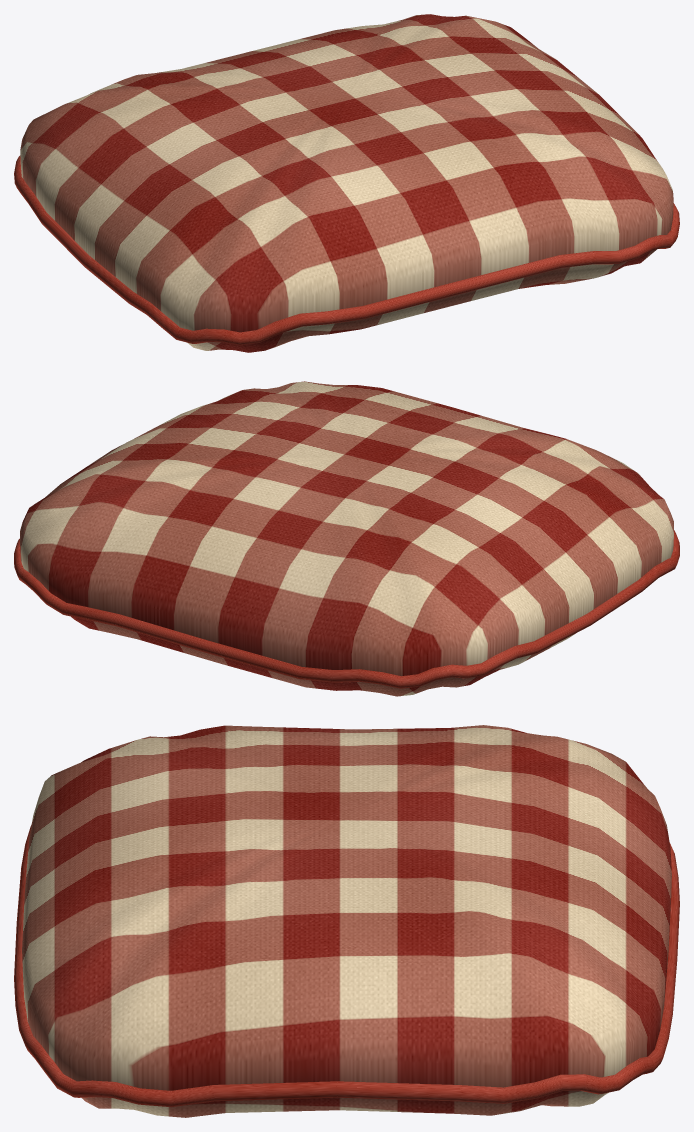
File: gingham-cushion.glb
3 renders of one model, top to bottom at view 1: azimuth 30°, elevation 25°; view 2: azimuth 150°, elevation 25°; view 3: azimuth 270°, elevation 25°, orthographic. The views are drawn at different scales.
Visible parts, largest first — view 1: Puffed gingham upholstery, Rust linen piping at the seam; view 2: Puffed gingham upholstery, Rust linen piping at the seam; view 3: Puffed gingham upholstery, Rust linen piping at the seam.
Boxes of the visible parts, x1,y1,x2,y2 form: Puffed gingham upholstery: (20, 14, 673, 352); Rust linen piping at the seam: (14, 155, 679, 345); Puffed gingham upholstery: (20, 381, 673, 696); Rust linen piping at the seam: (14, 530, 679, 688); Puffed gingham upholstery: (22, 725, 671, 1117); Rust linen piping at the seam: (14, 825, 679, 1107).
Size of the model in its own units: 0.4069 by 0.1106 by 0.3545.
2 materials, 2 textured.
